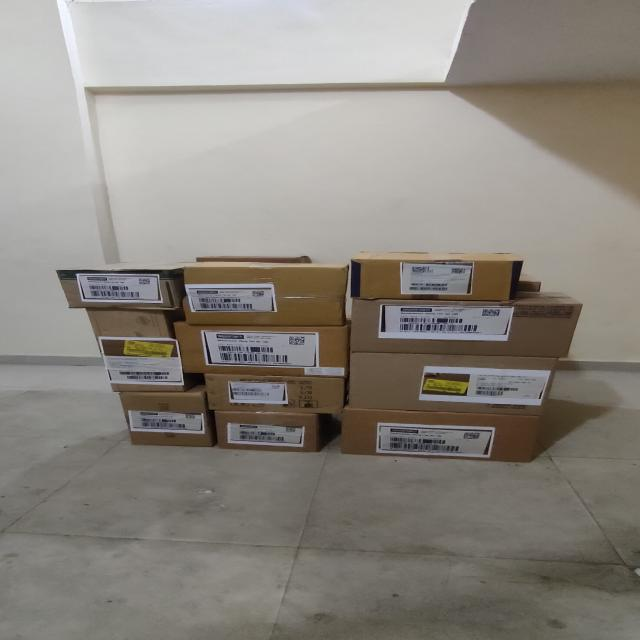BoxFace: (352, 291, 582, 358), (352, 300, 582, 358), (349, 352, 557, 415), (341, 408, 540, 462), (183, 261, 346, 326), (175, 321, 349, 378), (86, 309, 200, 391), (349, 252, 524, 301), (55, 262, 194, 309), (119, 385, 216, 446), (205, 374, 346, 414), (213, 410, 341, 452)
